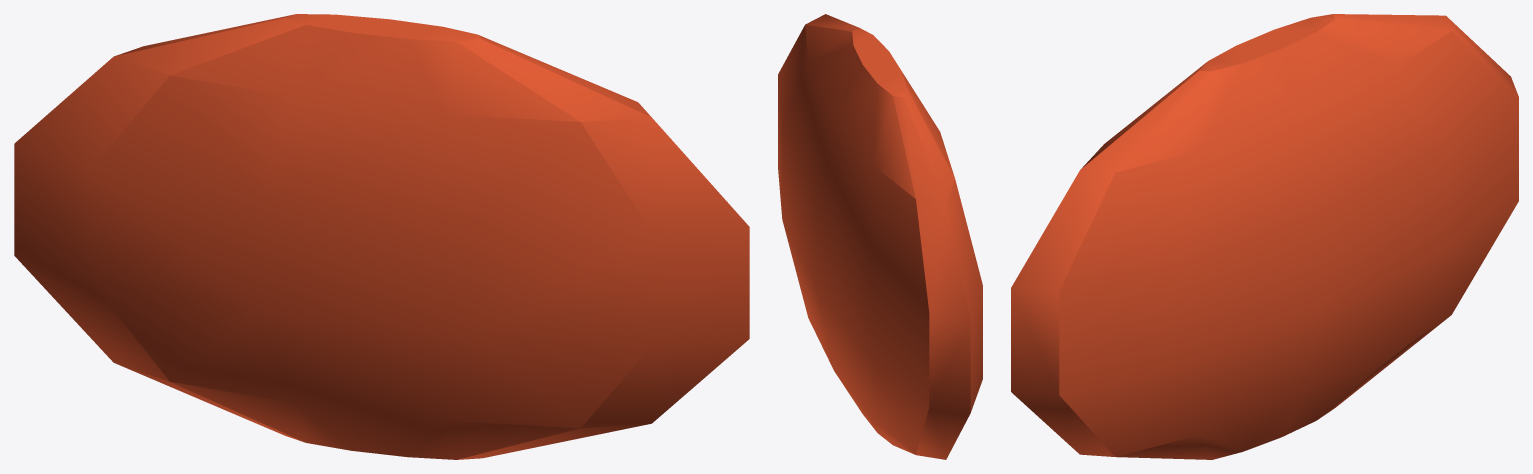
File: chlamydomonas_eyespot.glb
3 views of the same model, side by side, from view 1: azimuth 30°, elevation 25°; view 2: azimuth 150°, elevation 25°; view 3: azimuth 270°, elevation 25° (orthographic). The views are drawn at different scales.
Visible parts, largest first — view 1: eyespot; view 2: eyespot; view 3: eyespot.
Boxes of the visible parts, <box> form: eyespot: <box>14,14,749,459</box>; eyespot: <box>778,14,982,459</box>; eyespot: <box>1011,14,1518,459</box>.
Bounding box in the file's own units: 0.00515 × 0.00435 × 0.00515.
